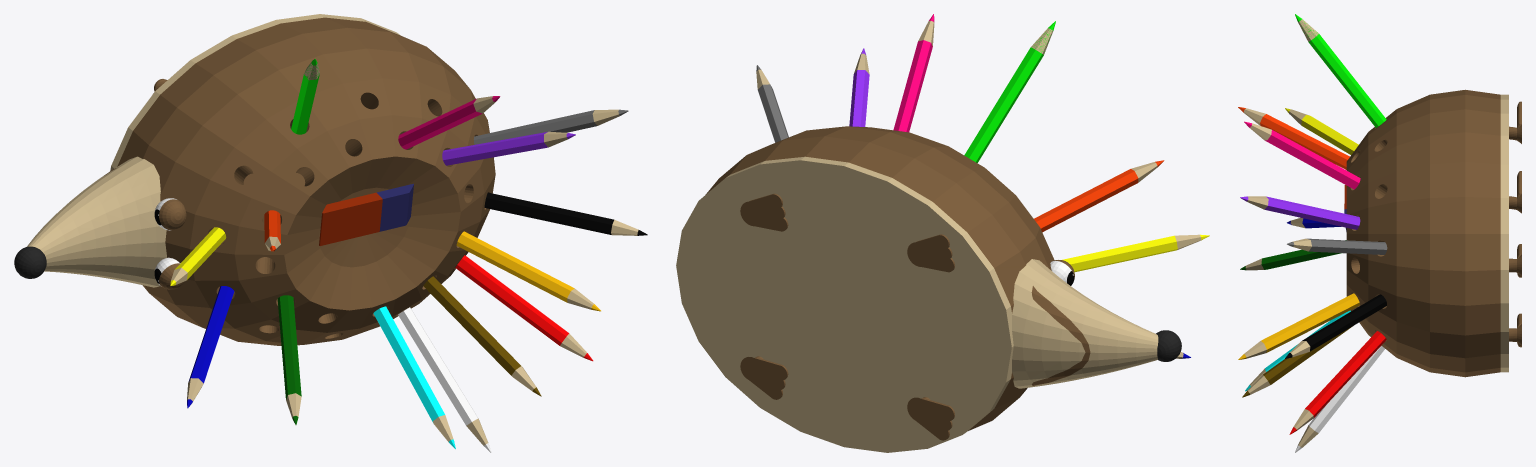
The picture shows the model from 3 angles, left to right: view 1: azimuth 30°, elevation 25°; view 2: azimuth 150°, elevation 25°; view 3: azimuth 270°, elevation 25°; orthographic projection. The views are drawn at different scales.
Parts seen in each view (by area): view 1: hedgehog pencil holder by henkietenk; view 2: hedgehog pencil holder by henkietenk; view 3: hedgehog pencil holder by henkietenk.
Part boxes in pixels (bbox=[...]): hedgehog pencil holder by henkietenk: bbox=[14, 14, 647, 452]; hedgehog pencil holder by henkietenk: bbox=[676, 14, 1209, 452]; hedgehog pencil holder by henkietenk: bbox=[1238, 14, 1521, 452].
Bounding box in the file's own units: 18.77 × 14.54 × 10.2.
